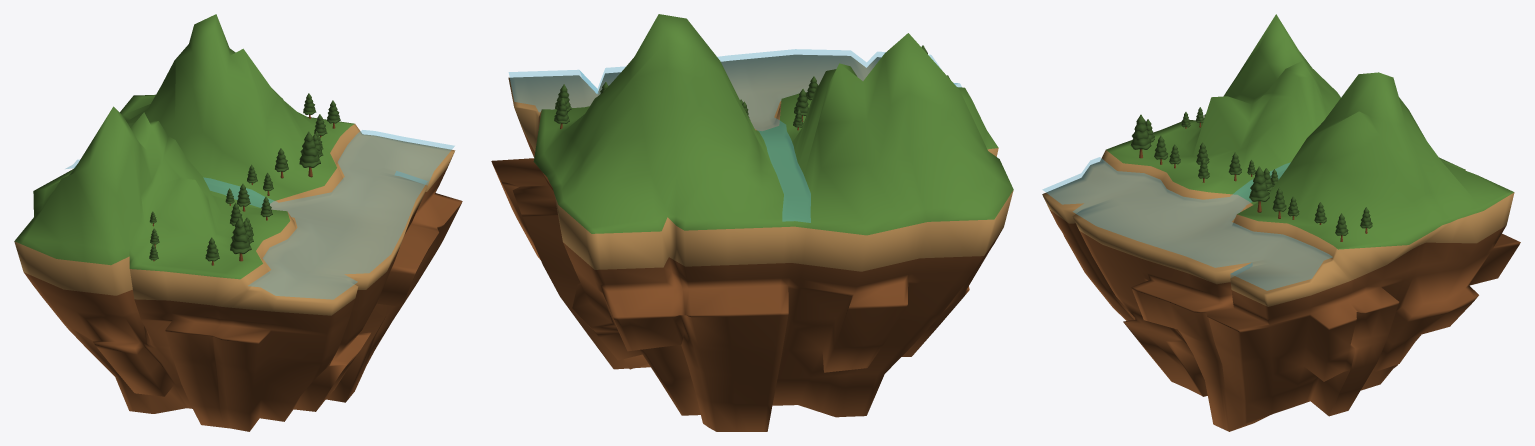
File: Estuary.glb
3 views of the same model, side by side, from view 1: azimuth 30°, elevation 25°; view 2: azimuth 150°, elevation 25°; view 3: azimuth 270°, elevation 25° (orthographic). The views are drawn at different scales.
Parts seen in each view (by area): view 1: Cube.167, Cube.168, Cylinder.104, Cylinder.093; view 2: Cube.167, Cube.168; view 3: Cube.167, Cube.168, Cylinder.104, Cylinder.093.
Boxes of the visible parts, x1,y1,x2,y2 form: Cube.167: [14, 14, 462, 431]; Cube.168: [66, 130, 454, 299]; Cylinder.104: [299, 131, 320, 177]; Cylinder.093: [230, 218, 251, 261]; Cube.167: [491, 14, 1013, 431]; Cube.168: [509, 49, 961, 222]; Cube.167: [1042, 14, 1520, 431]; Cube.168: [1042, 157, 1332, 290]; Cylinder.104: [1249, 166, 1269, 212]; Cylinder.093: [1130, 114, 1151, 158].
Bounding box in the file's own units: 6.69 × 5.25 × 6.7.
